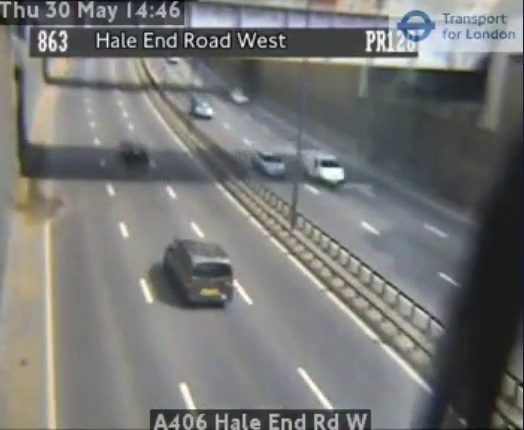van: (165, 240, 233, 304)
